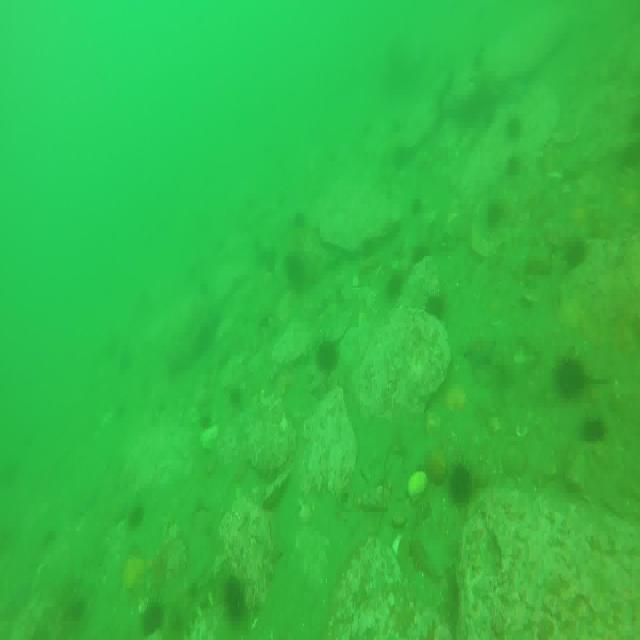echinus: (557, 356, 587, 401), (451, 460, 474, 504), (225, 577, 248, 619), (582, 414, 608, 447), (318, 340, 340, 374), (424, 294, 446, 324), (488, 198, 506, 229), (504, 153, 522, 182), (506, 113, 523, 139), (229, 389, 243, 412), (200, 412, 211, 437)
holothurian: (171, 561, 220, 632)
starfish: (465, 334, 497, 374)
